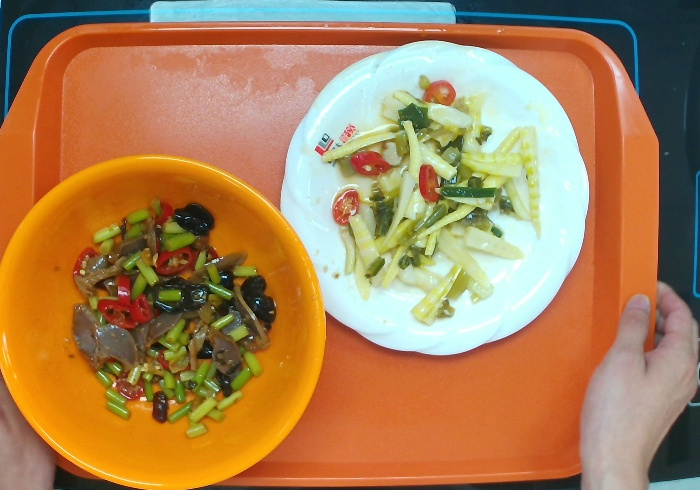ZNLD-Hua_Bian_Wan: (280, 40, 589, 358)
ZNLD-Ju_Se_Tang_Wan: (1, 152, 326, 490)
